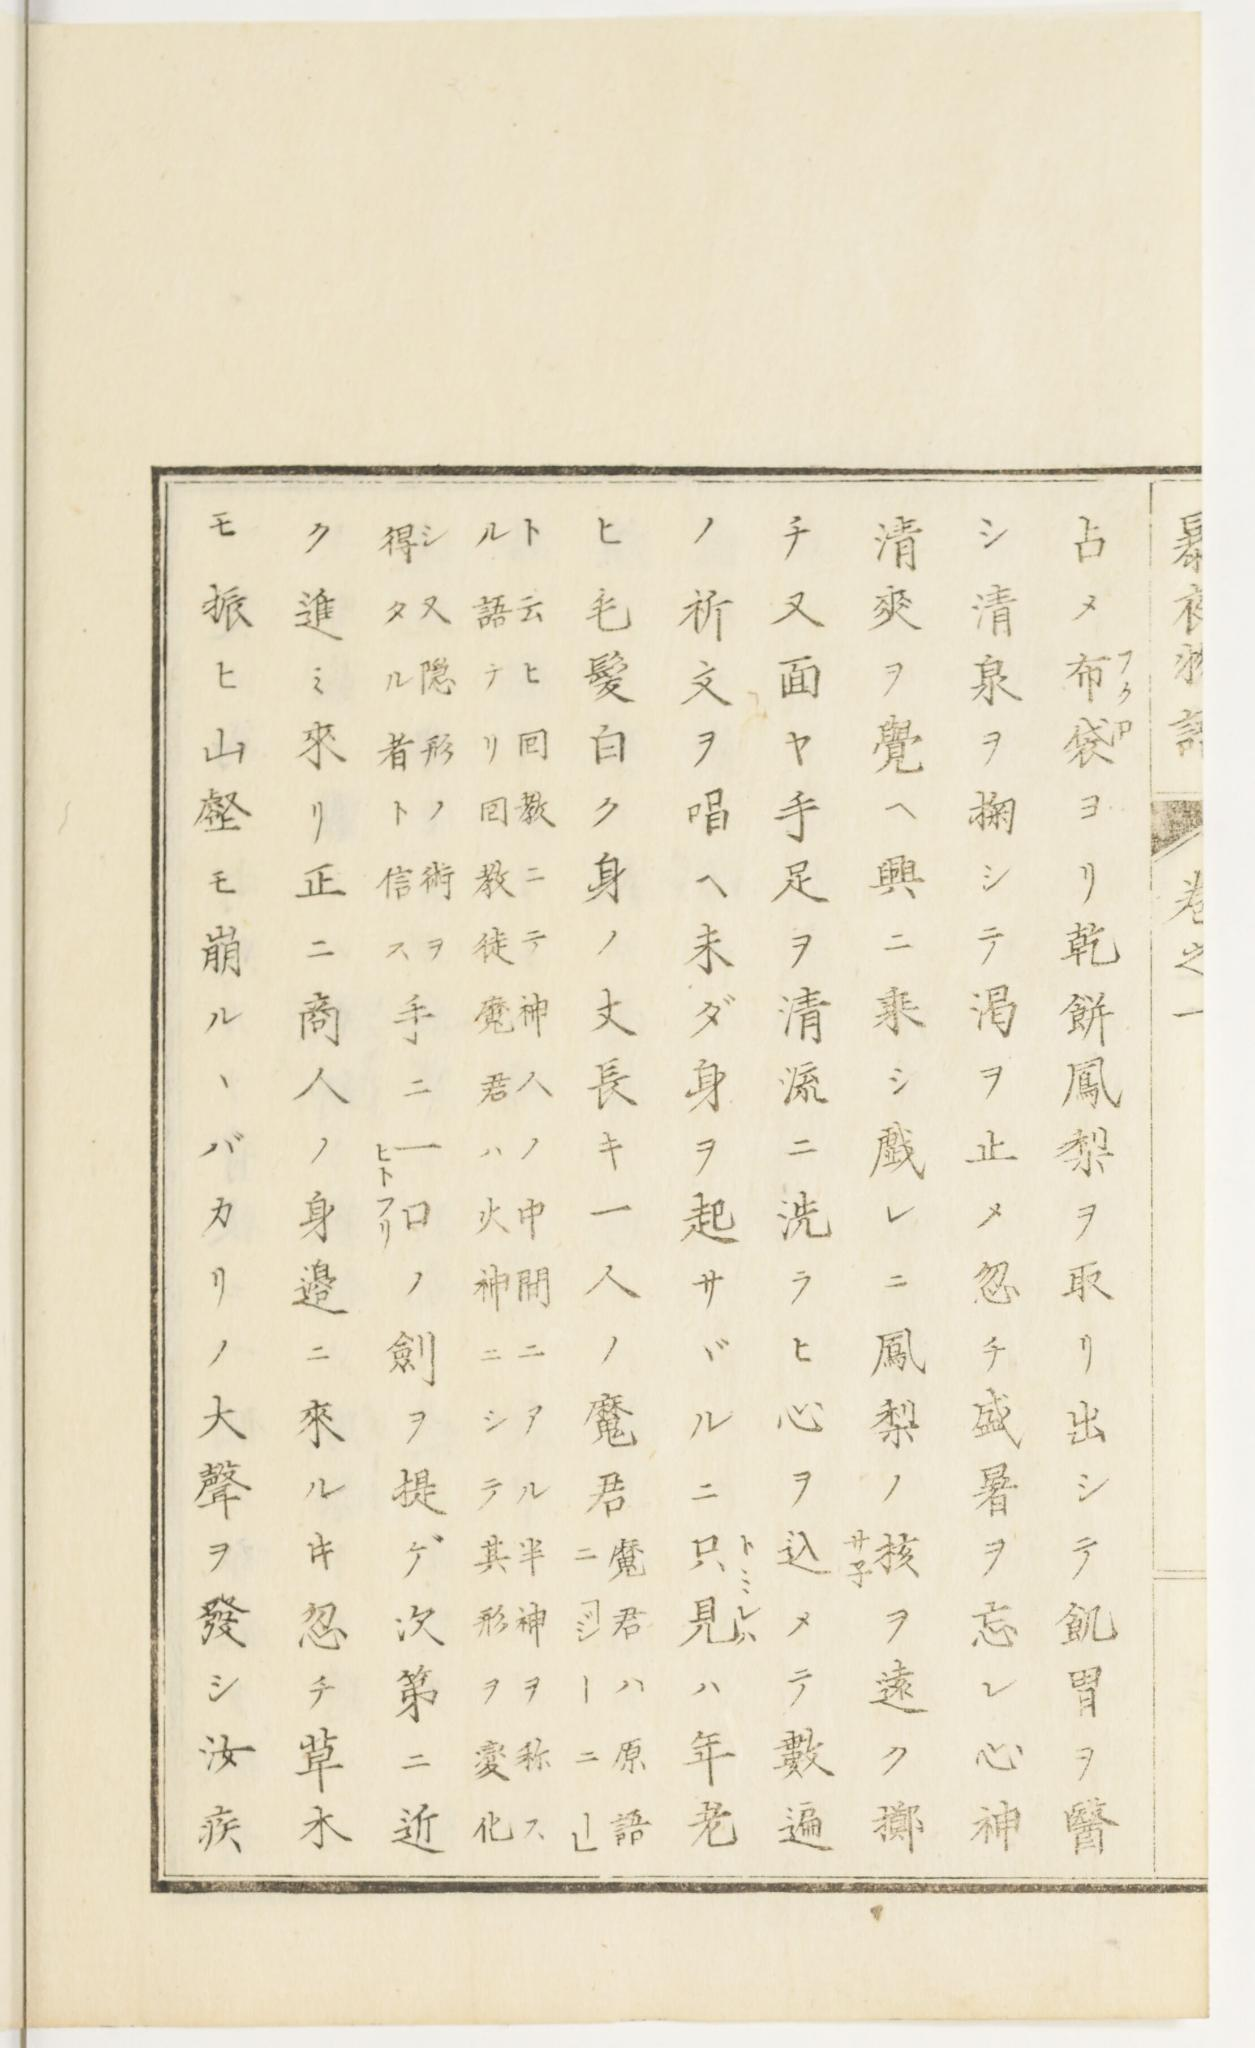MainZone-Character: (686, 1592, 771, 1657), (683, 1527, 762, 1587), (1058, 707, 1131, 765), (1066, 645, 1135, 705)
MainZone-Ruby: (731, 1597, 769, 1650), (737, 1532, 762, 1589), (1118, 644, 1139, 704), (1116, 717, 1137, 748)
